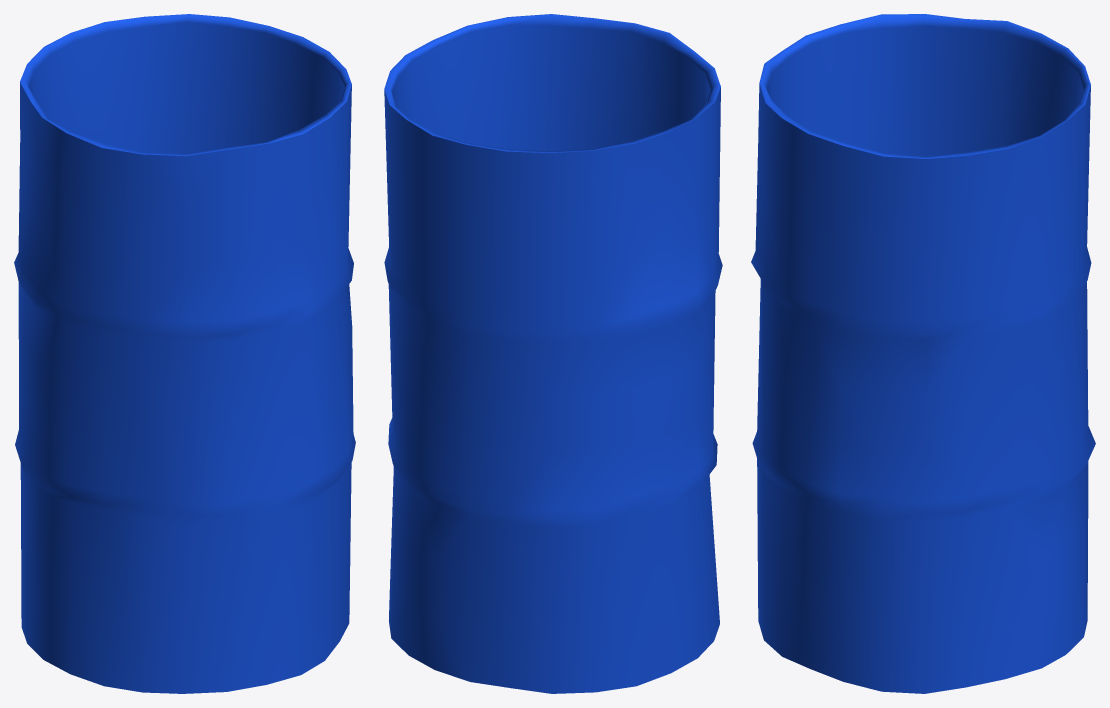
The model's file is barrel_open_damage2.fbx.
3 views of the same model, side by side, from view 1: azimuth 30°, elevation 25°; view 2: azimuth 150°, elevation 25°; view 3: azimuth 270°, elevation 25° (orthographic).
Visible parts, largest first — view 1: barrel_open_damage2; view 2: barrel_open_damage2; view 3: barrel_open_damage2.
Part boxes in pixels (x1,y1,x2,y2): barrel_open_damage2: [14, 14, 355, 693]; barrel_open_damage2: [384, 14, 722, 693]; barrel_open_damage2: [751, 14, 1095, 693].
Bounding box in the file's own units: 51.22 × 89.84 × 51.68.
